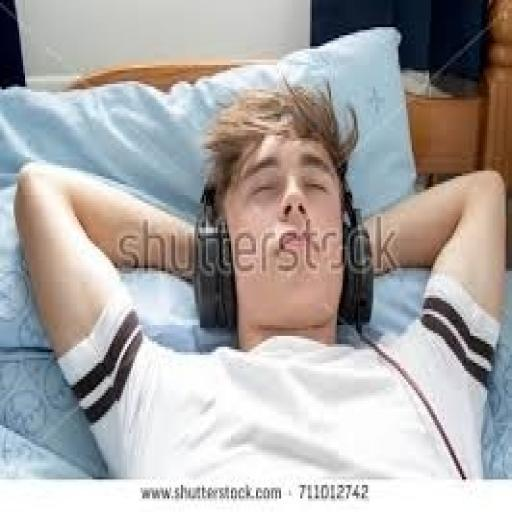listening_to_music: (12, 79, 510, 482)
